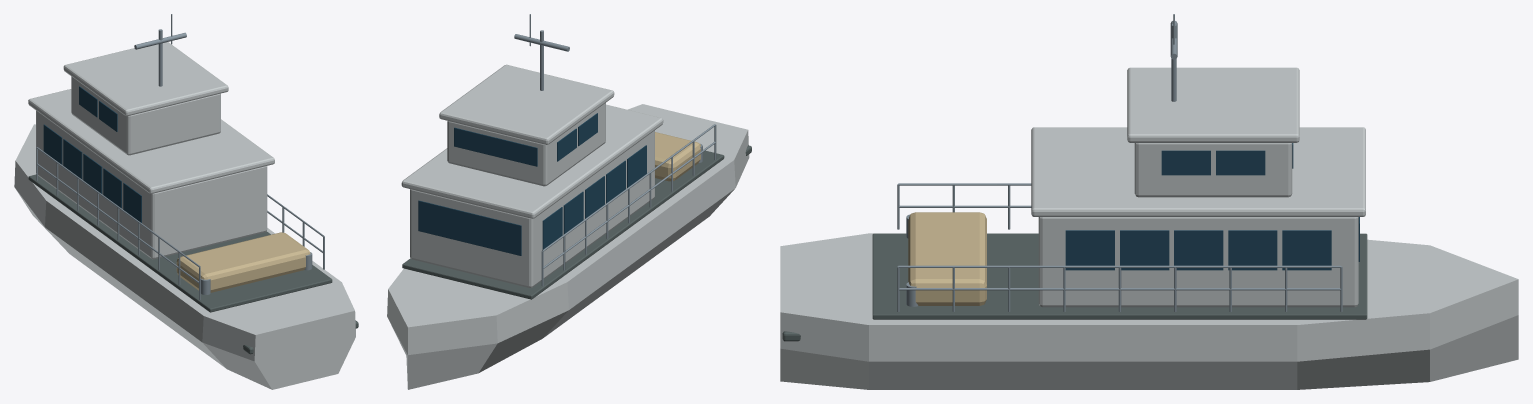
Rendered from ship-pleasure.glb.
3 views of the same model, side by side, from view 1: azimuth 30°, elevation 25°; view 2: azimuth 150°, elevation 25°; view 3: azimuth 270°, elevation 25° (orthographic). The views are drawn at different scales.
Visible parts, largest first — view 1: ship-pleasure_body, ship-pleasure_glass, ship-pleasure_metal; view 2: ship-pleasure_body, ship-pleasure_glass, ship-pleasure_metal; view 3: ship-pleasure_body, ship-pleasure_glass, ship-pleasure_metal.
Part boxes in pixels (bbox=[...]): ship-pleasure_body: bbox=[14, 42, 358, 389]; ship-pleasure_glass: bbox=[43, 86, 141, 222]; ship-pleasure_metal: bbox=[36, 14, 324, 299]; ship-pleasure_body: bbox=[387, 64, 751, 389]; ship-pleasure_glass: bbox=[418, 113, 646, 255]; ship-pleasure_metal: bbox=[514, 14, 716, 286]; ship-pleasure_body: bbox=[780, 67, 1518, 389]; ship-pleasure_glass: bbox=[1065, 143, 1359, 270]; ship-pleasure_metal: bbox=[897, 14, 1342, 311].
Size of the model in its own units: 4.5 by 7.9 by 15.
